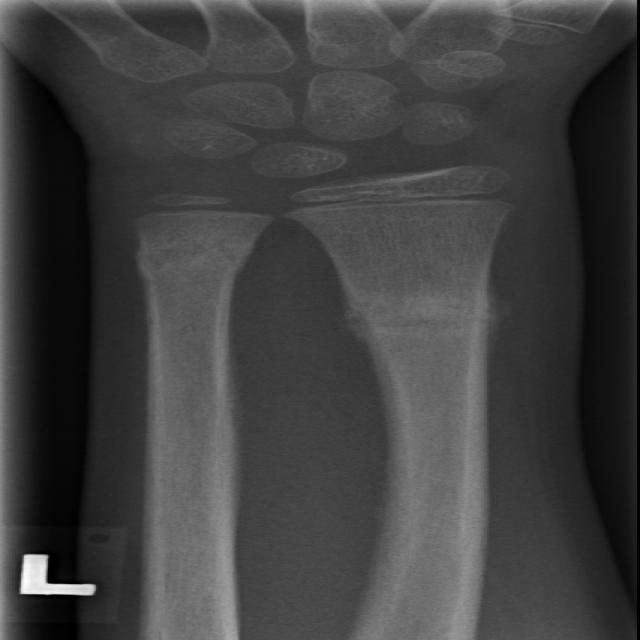radius fracture: (336, 273, 519, 382)
